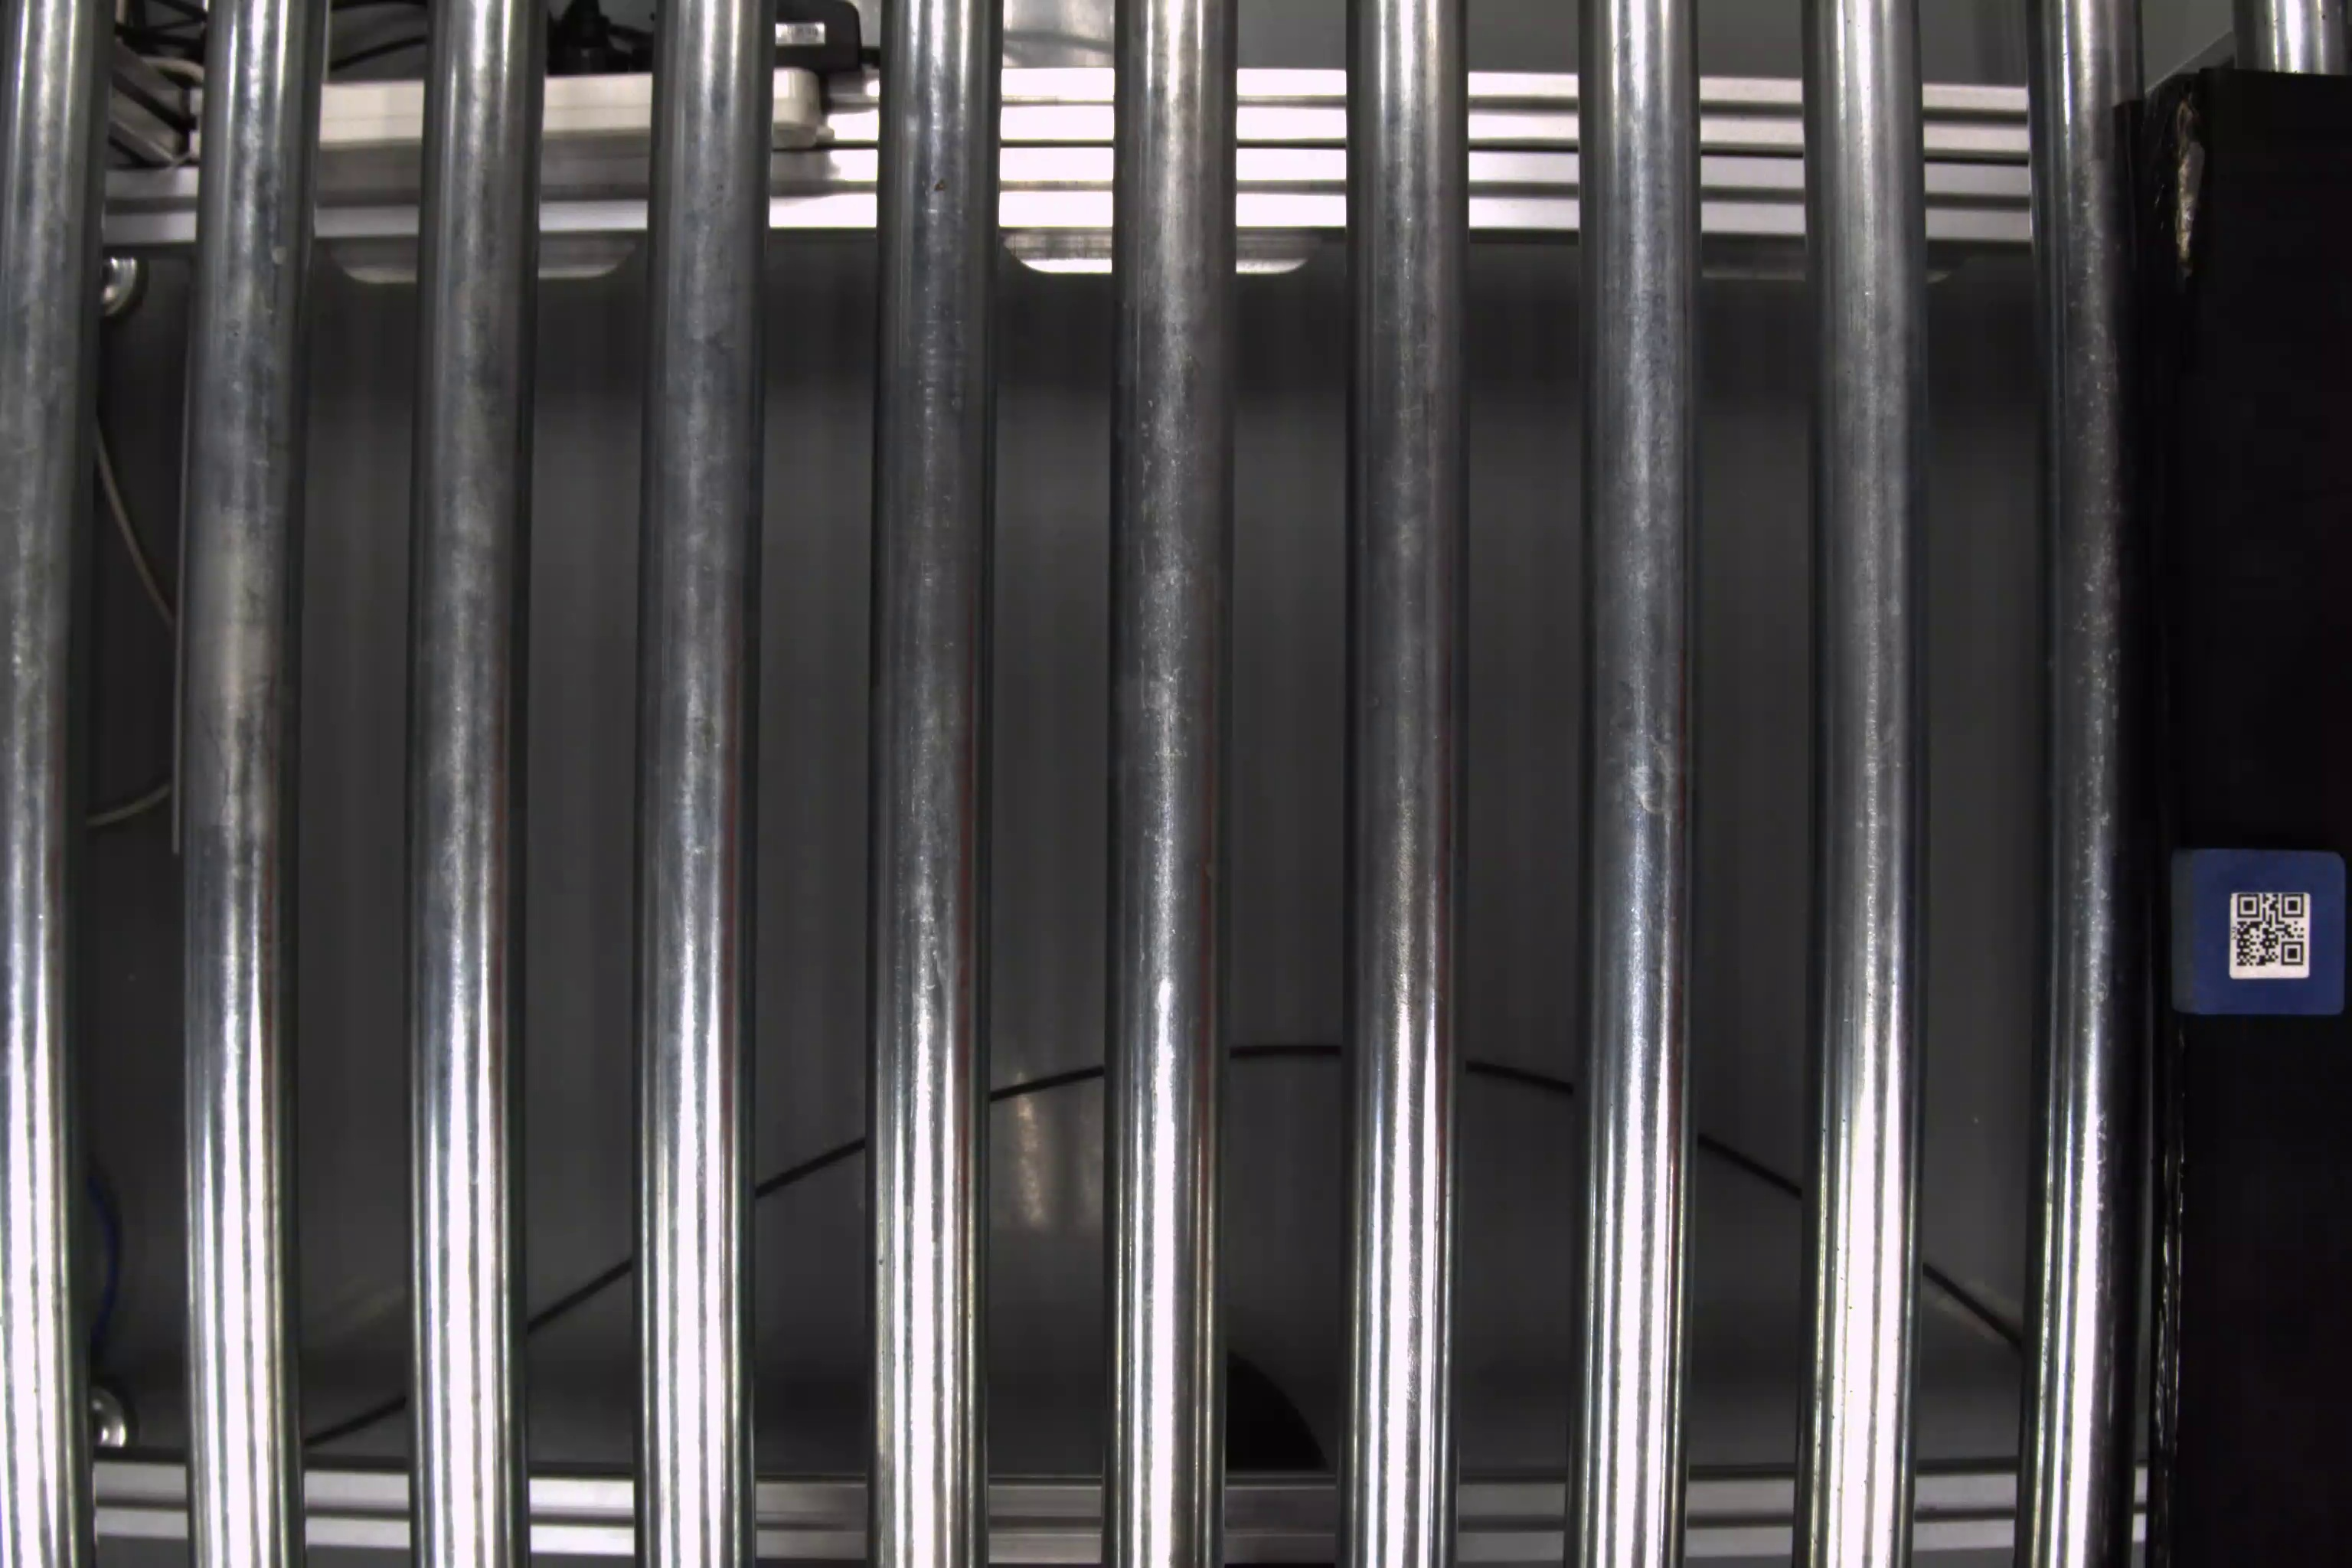wood: (2173, 845, 2345, 1017)
